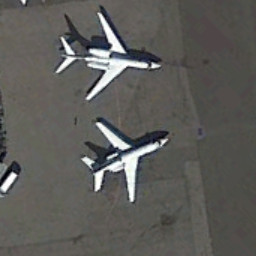Airplane: (38, 6, 166, 106), (66, 113, 179, 208)
